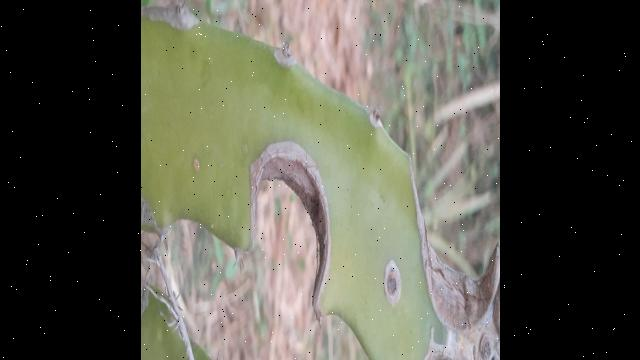stemcanker: (142, 18, 429, 360)
